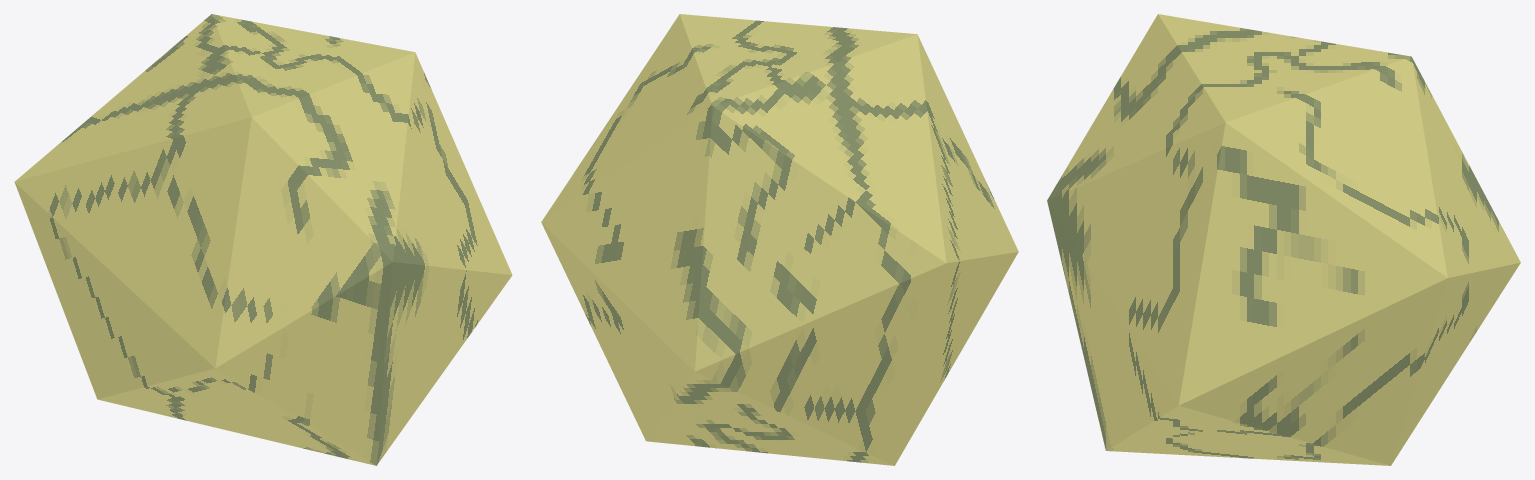
The model's file is sandstone_asteroid.glb.
The picture shows the model from 3 angles, left to right: view 1: azimuth 30°, elevation 25°; view 2: azimuth 150°, elevation 25°; view 3: azimuth 270°, elevation 25°; orthographic projection. The views are drawn at different scales.
Visible parts, largest first — view 1: normal_asteroid; view 2: normal_asteroid; view 3: normal_asteroid.
Boxes of the visible parts, box(x1,y1,x2,y2) form: normal_asteroid: box(14, 14, 512, 465); normal_asteroid: box(541, 14, 1018, 465); normal_asteroid: box(1047, 14, 1520, 465).
Size of the model in its own units: 1.94 by 1.64 by 1.83.
1 material, 1 textured.
